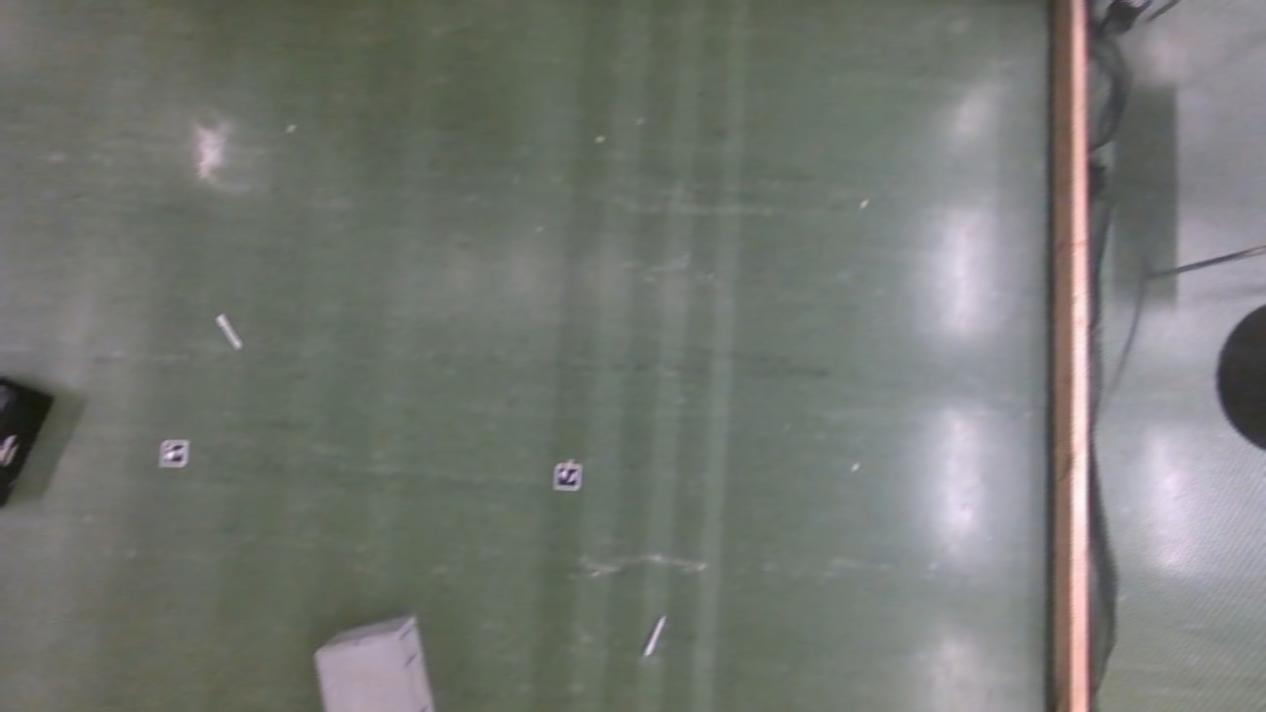probes: (644, 614, 665, 656), (217, 312, 240, 348)
rako: (315, 612, 433, 712), (0, 372, 53, 509)
